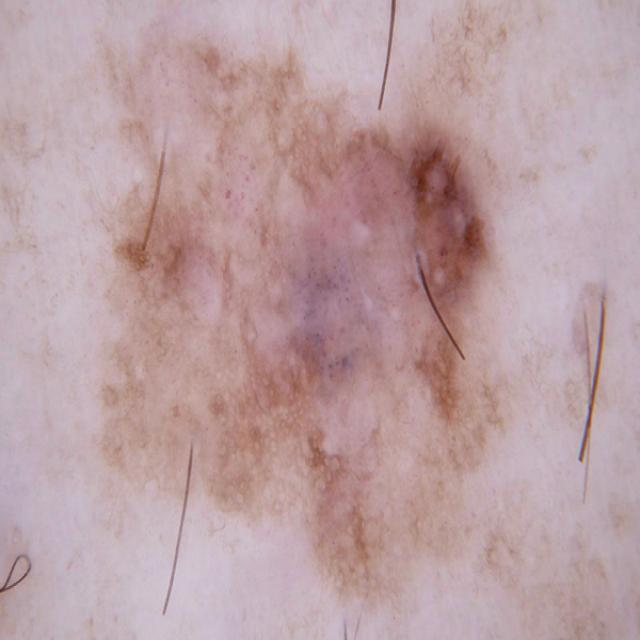Skin-Cancer Pigmented benign keratosis: (15, 28, 640, 640)
